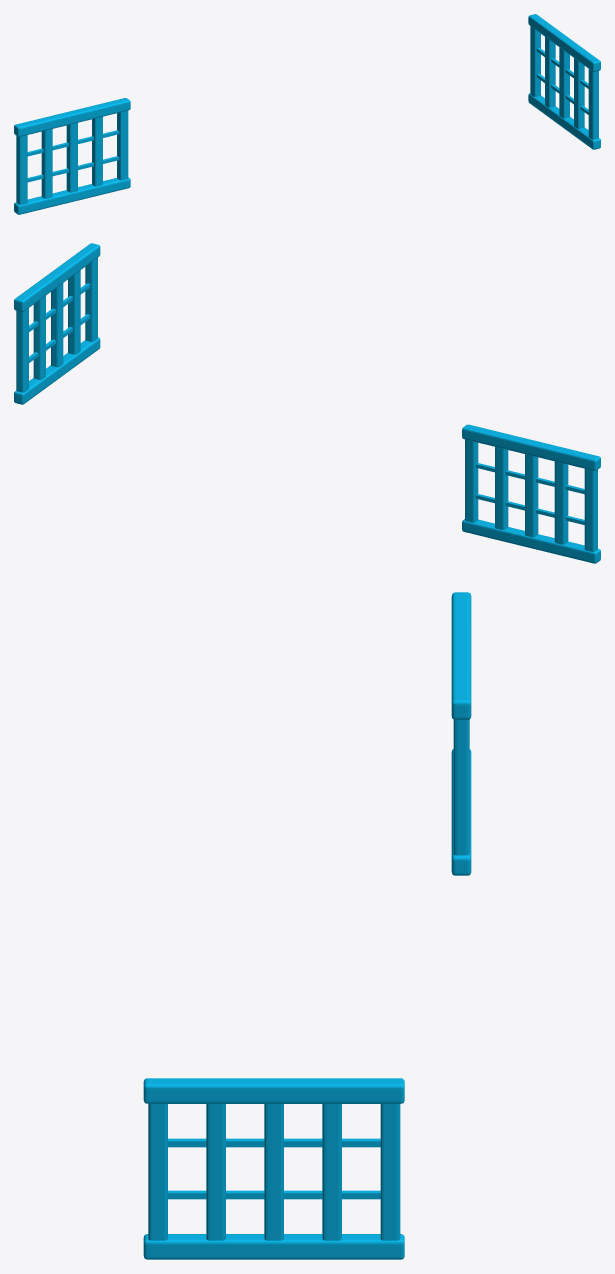
The model's file is SM_Wood_Window_05.fbx.
The picture shows the model from 3 angles, top to bottom: view 1: azimuth 30°, elevation 25°; view 2: azimuth 150°, elevation 25°; view 3: azimuth 270°, elevation 25°; orthographic projection. The views are drawn at different scales.
Parts seen in each view (by area): view 1: SM_Wood_Window_05; view 2: SM_Wood_Window_05; view 3: SM_Wood_Window_05.
Boxes of the visible parts, bbox=[...] form: SM_Wood_Window_05: bbox=[14, 14, 600, 214]; SM_Wood_Window_05: bbox=[14, 243, 600, 563]; SM_Wood_Window_05: bbox=[143, 592, 471, 1259].
Bounding box in the file's own units: 6.93 × 1.15 × 1.94.
